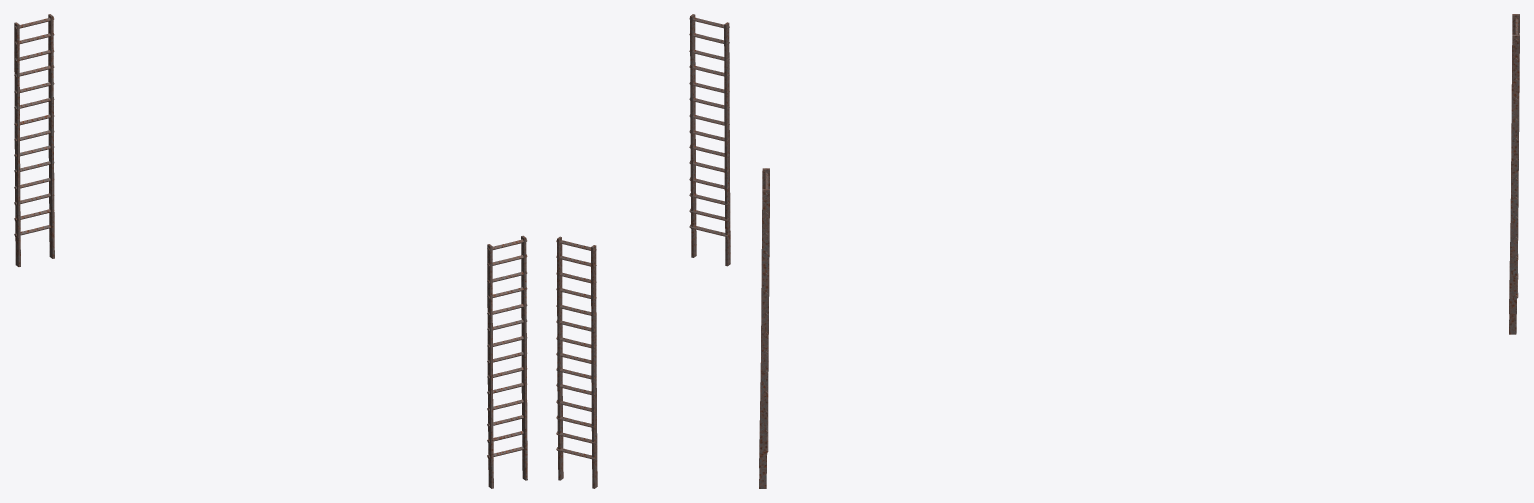
File: SM_Chateaux_05_04.fbx
The picture shows the model from 3 angles, left to right: view 1: azimuth 30°, elevation 25°; view 2: azimuth 150°, elevation 25°; view 3: azimuth 270°, elevation 25°; orthographic projection. The views are drawn at different scales.
Visible parts, largest first — view 1: SM_Chateaux_05_04; view 2: SM_Chateaux_05_04; view 3: SM_Chateaux_05_04.
Part boxes in pixels (<box>): SM_Chateaux_05_04: <box>14,14,527,488</box>; SM_Chateaux_05_04: <box>556,14,730,488</box>; SM_Chateaux_05_04: <box>759,14,1519,488</box>.
Bounding box in the file's own units: 1009 × 1308 × 2575.
